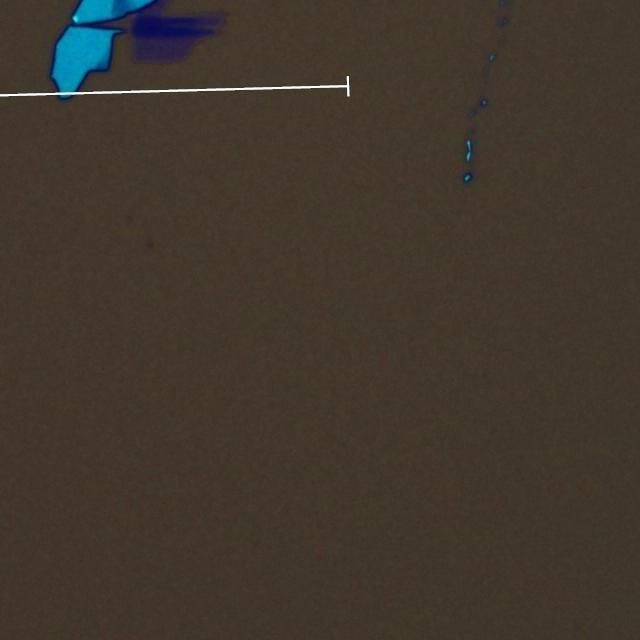monolayer-eWW4: (131, 36, 194, 65)
